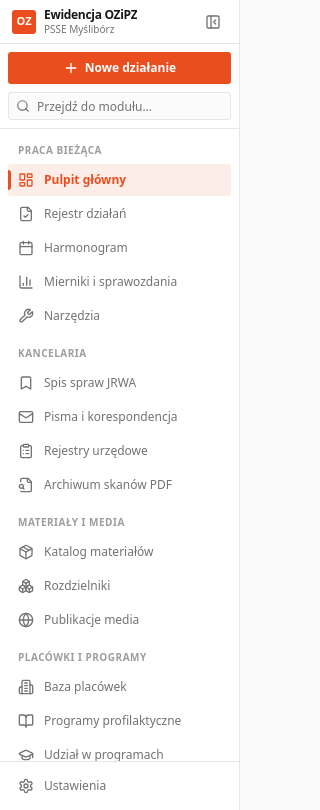
Test case: OzipzSidebar routing and navigation › filters modules by label and keywords
Step 1. Type "formy dzialan" into the search field named "Szukaj modułu" → (120, 106), box [8,92,231,120]
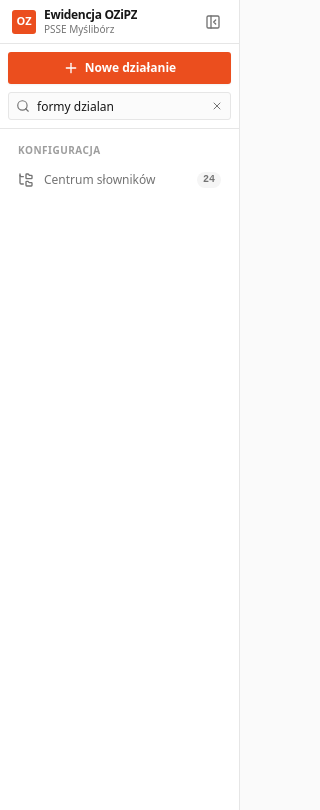
Check: the text "Centrum słowników" is shown, box [44,171,156,188]
Check: the link "Harmonogram" is gone
Step 2. Replace the text in the search field named "Szukaj modułu" with "zzz" → (120, 106), box [8,92,231,120]
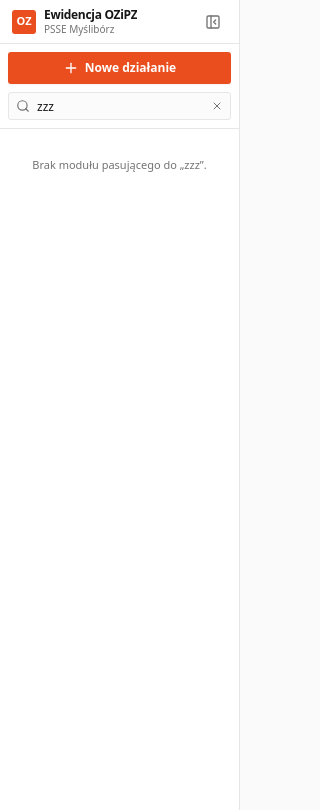
Check: the text "Brak modułu pasującego do „zzz”." is shown, box [32,157,207,172]
